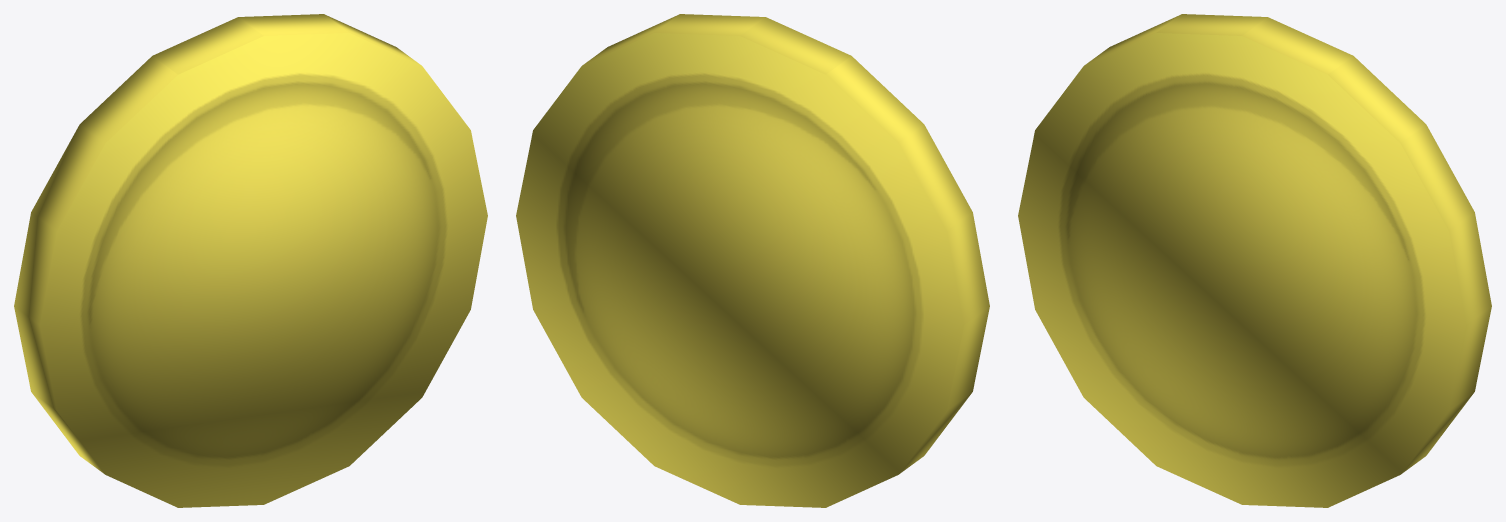
The model's file is coin.dae.
3 renders of one model, left to right at view 1: azimuth 30°, elevation 25°; view 2: azimuth 150°, elevation 25°; view 3: azimuth 330°, elevation 25°, orthographic.
Parts seen in each view (by area): view 1: Cylinder_001; view 2: Cylinder_001; view 3: Cylinder_001.
Boxes of the visible parts, left/top/right/bottom form: Cylinder_001: left=14, top=14, right=487, bottom=507; Cylinder_001: left=516, top=14, right=989, bottom=507; Cylinder_001: left=1018, top=14, right=1491, bottom=507.
Size of the model in its own units: 4 by 0.4 by 4.
Materials: 1 (1 with a texture image).
